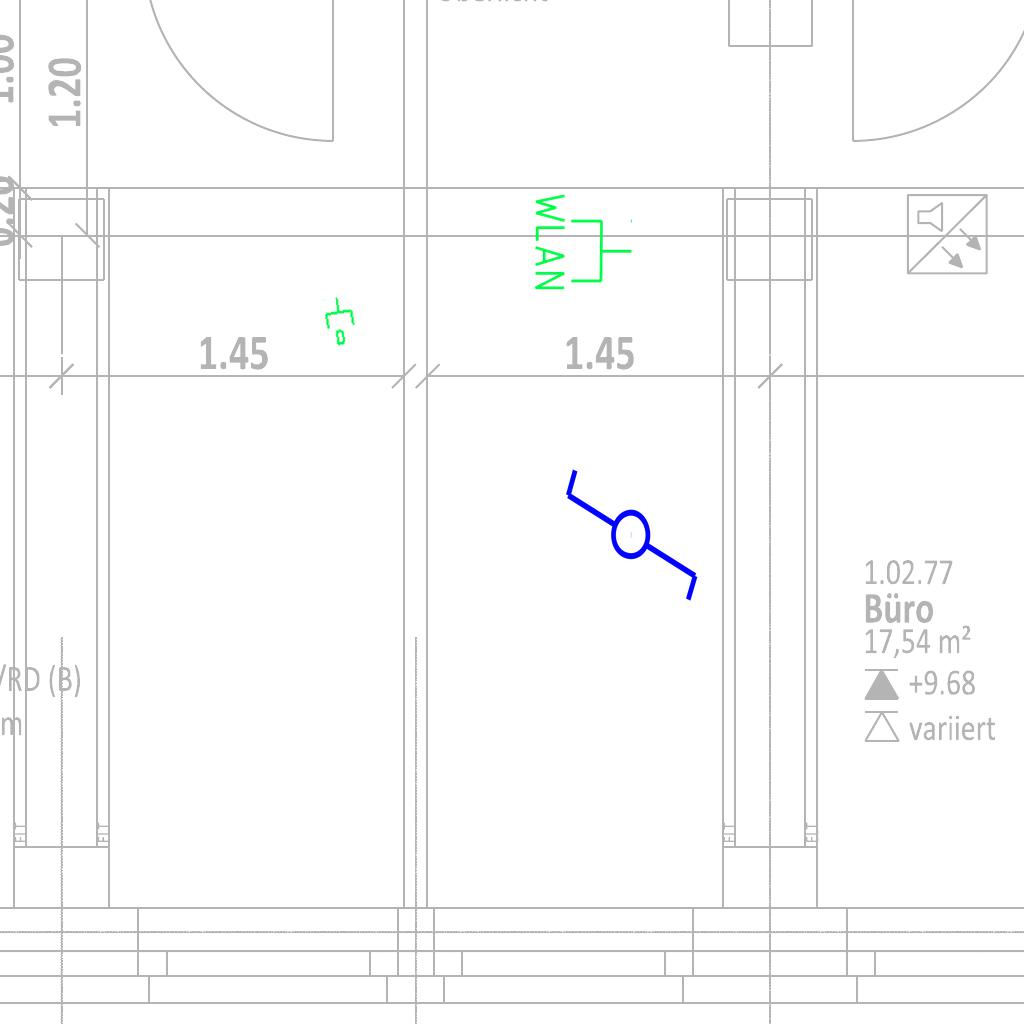Datenanschluss_einfach: (320, 293, 362, 349)
WLAN: (531, 189, 635, 294)
Wechselschalter: (561, 448, 705, 605)
